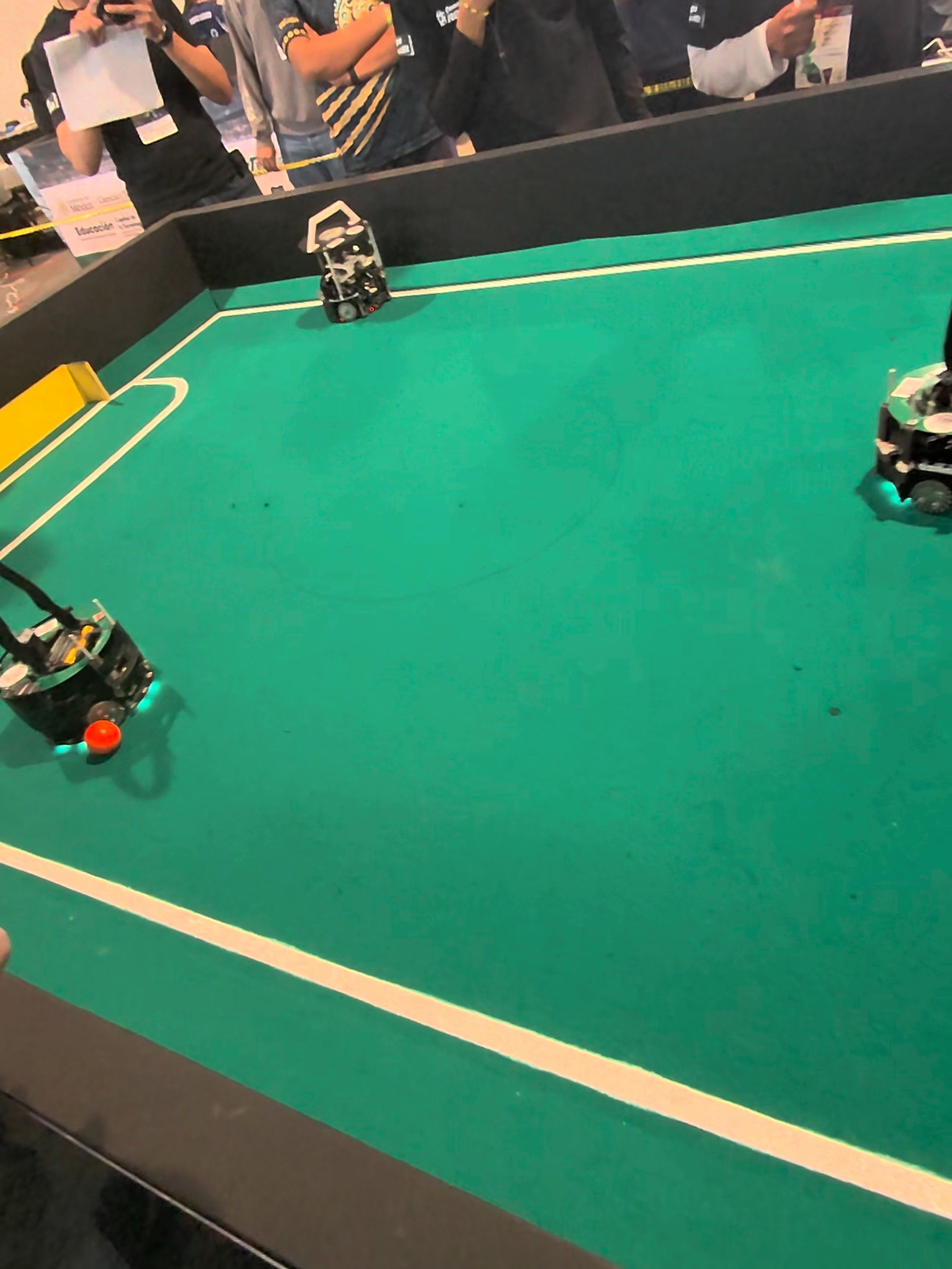Robot: (871, 284, 952, 535), (314, 206, 397, 332)
pelota: (0, 560, 153, 776), (84, 722, 126, 756)
